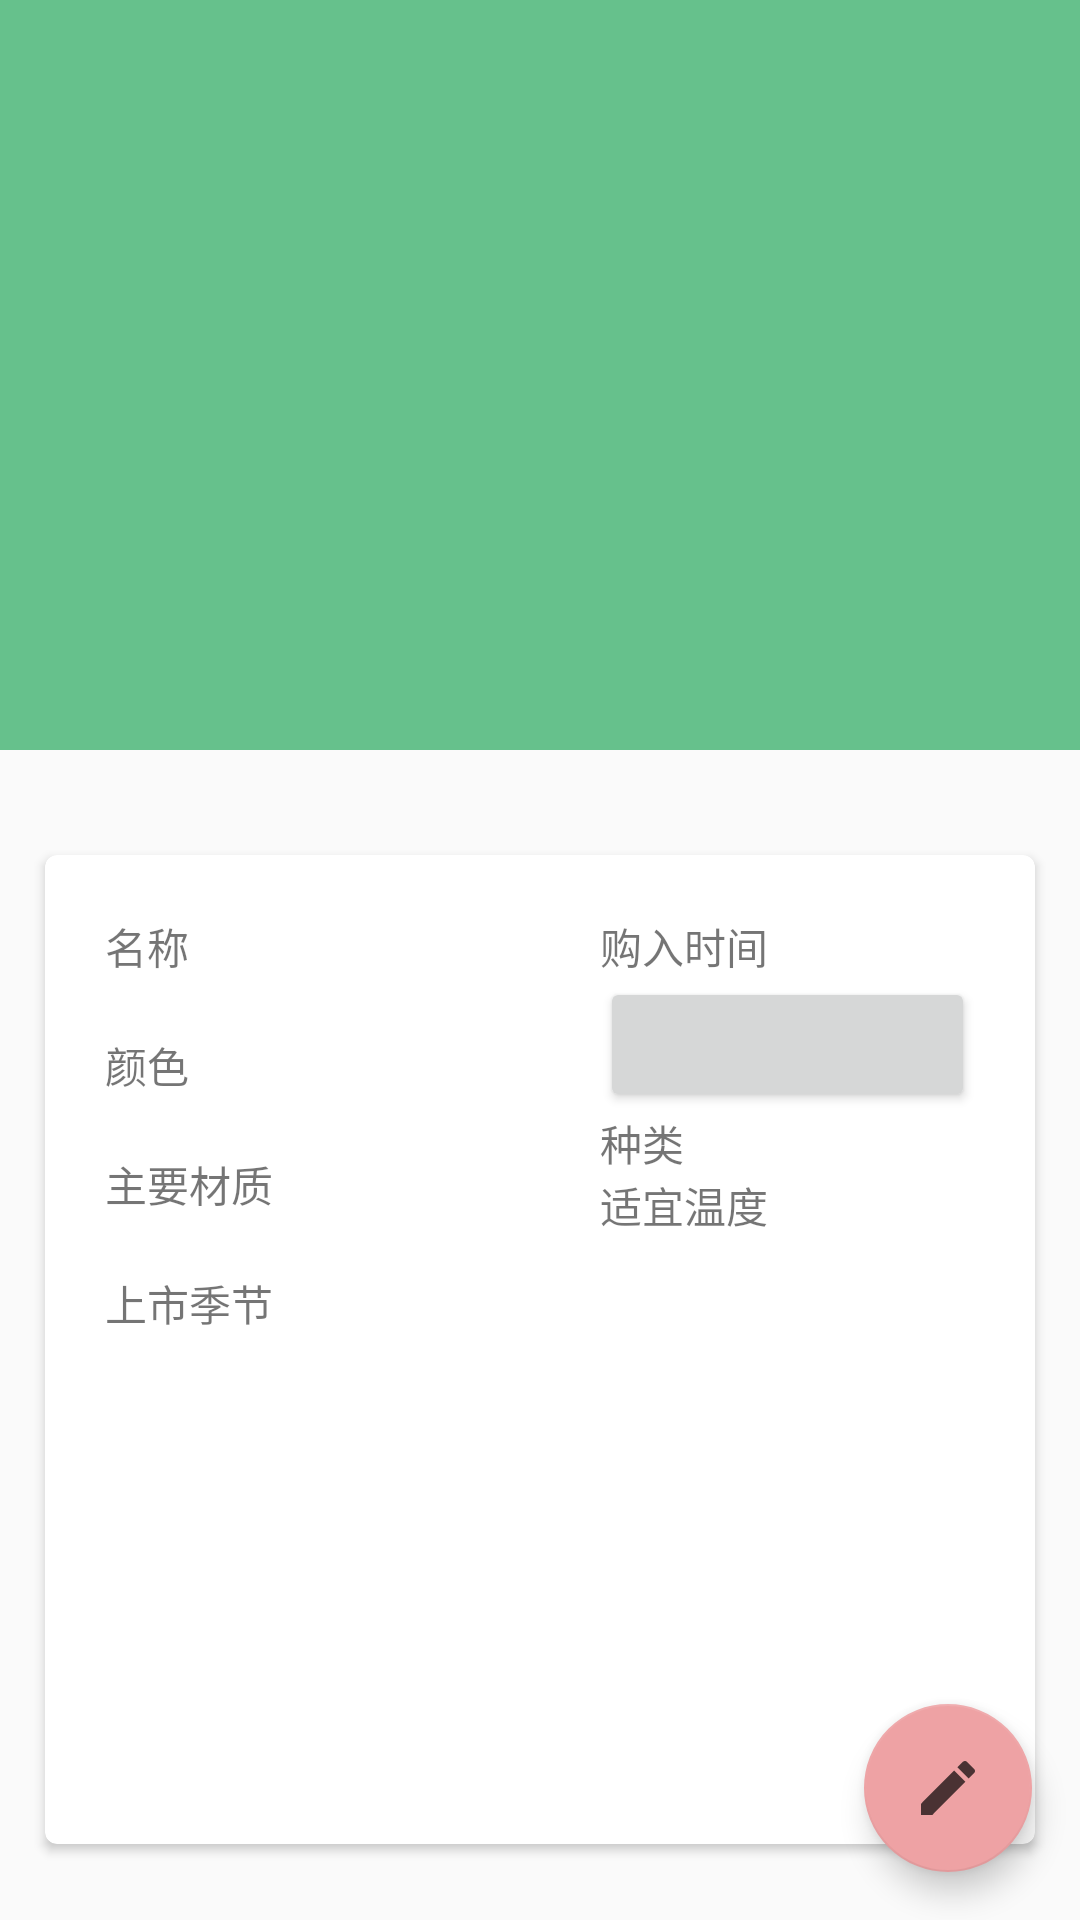

Icons on this 1080*1920 Android screen, each with the point to tap as [x,y]:
create: [948,1788]
